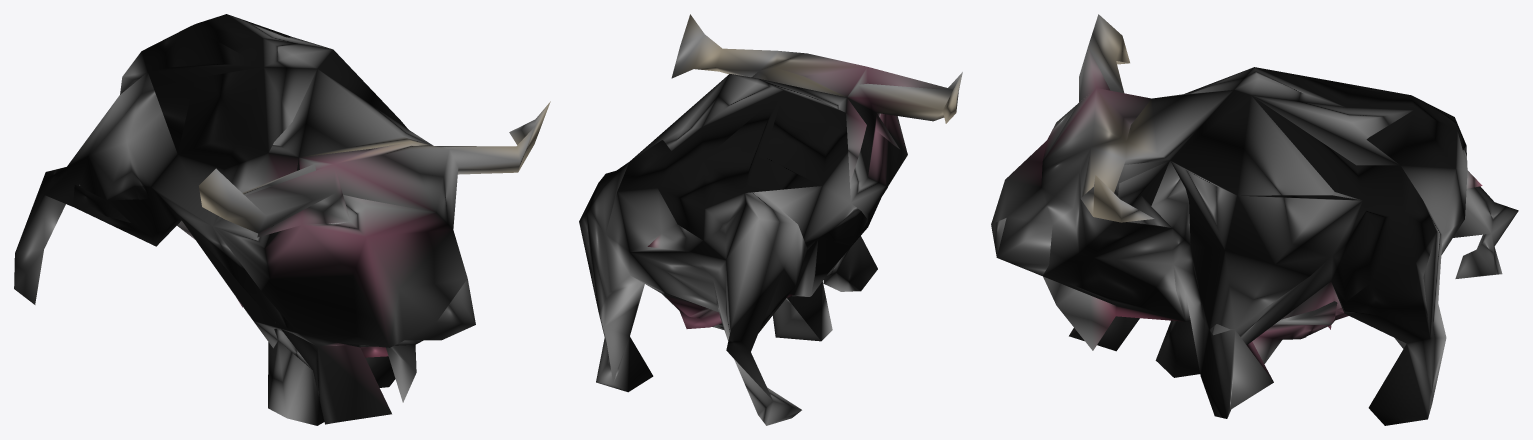
Rendered from gen3d-angry-bull-lod1.glb.
3 views of the same model, side by side, from view 1: azimuth 30°, elevation 25°; view 2: azimuth 150°, elevation 25°; view 3: azimuth 270°, elevation 25° (orthographic). The views are drawn at different scales.
Visible parts, largest first — view 1: part_0; view 2: part_0; view 3: part_0.
Boxes of the visible parts, x1=… form: part_0: x1=14, y1=14, x2=550, y2=425; part_0: x1=579, y1=14, x2=962, y2=425; part_0: x1=991, y1=14, x2=1518, y2=425.
Bounding box in the file's own units: 1.04 × 0.9759 × 1.53.
